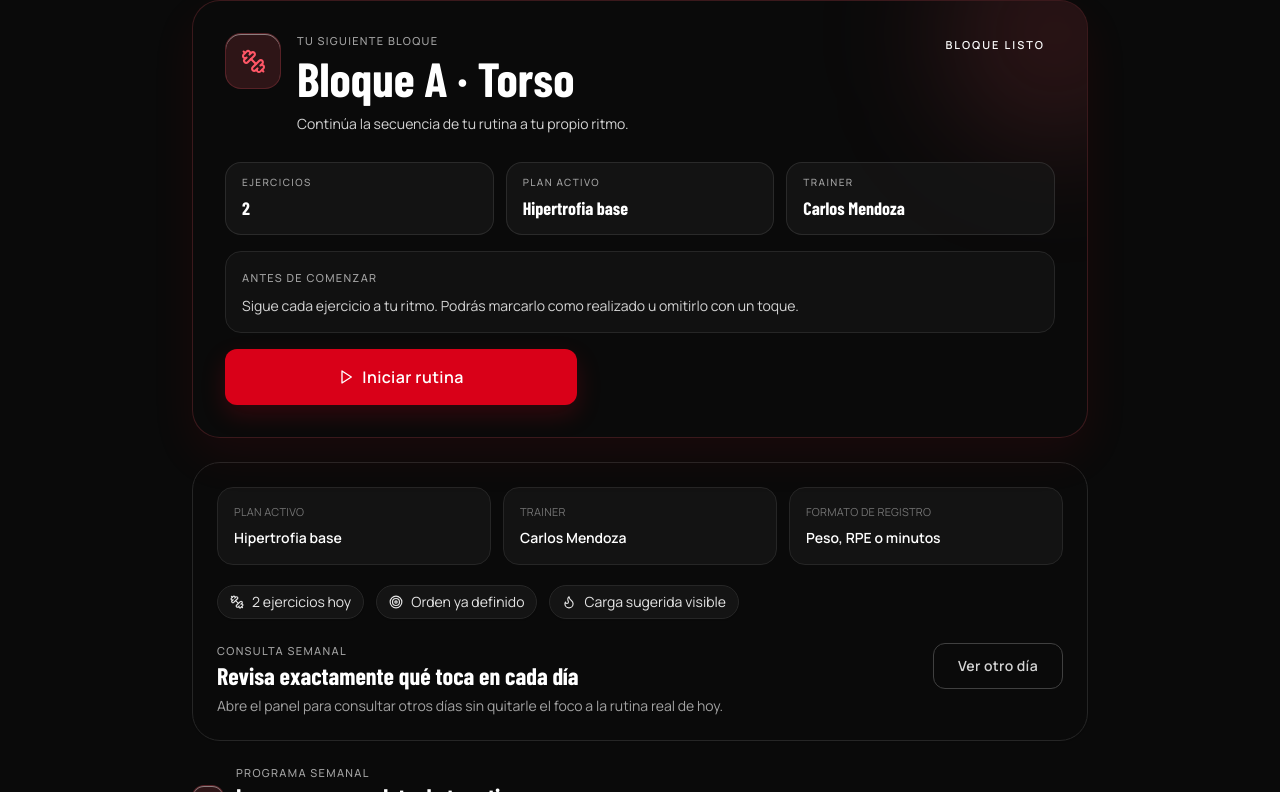
Test case: TodayWorkoutPage › starts and records client exercises one at a time
Check: the text "Carlos Mendoza" below "Bloque A · Torso" is shown, box [803,196,905,218]
Check: the element with test id "workout-primary" is shown, box [192,0,1088,438]
Click the button with test id "start-session-btn". click: (401, 376)
box: [225,348,577,404]
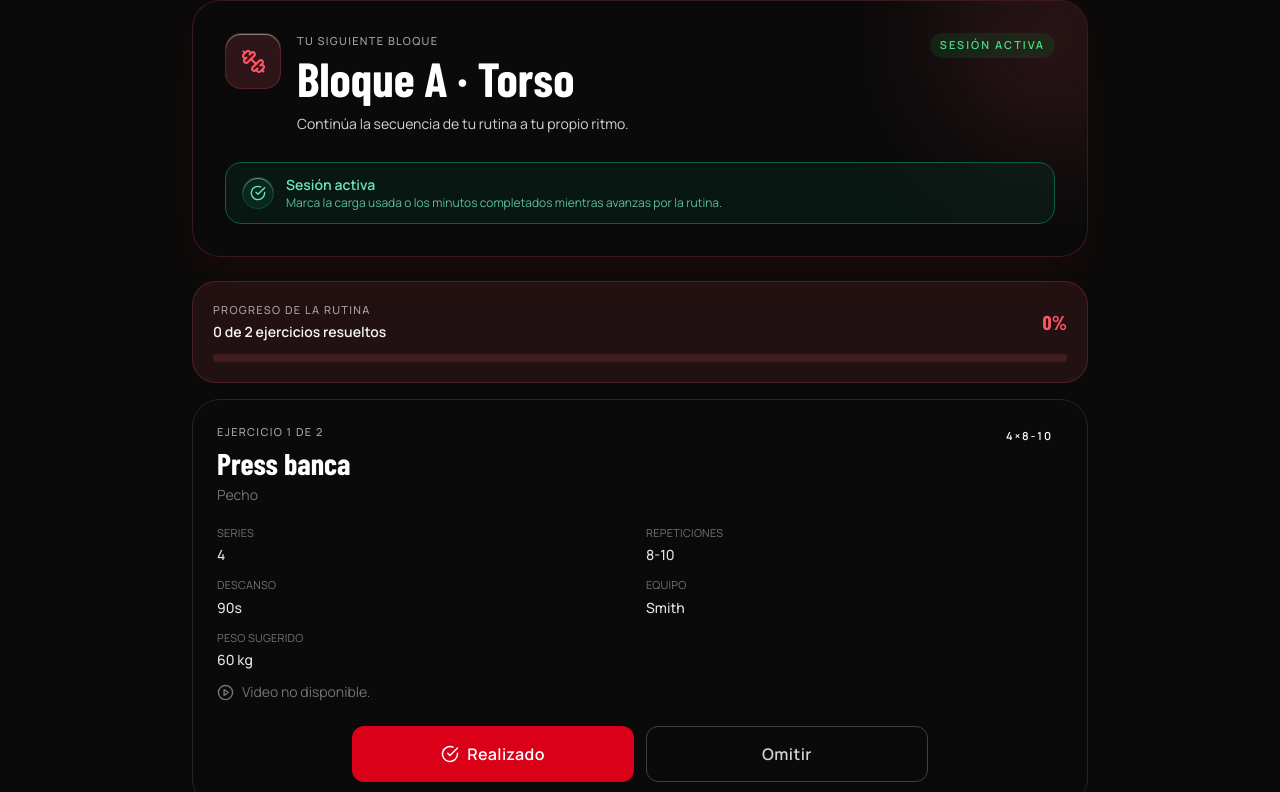
Check: the button with test id "skip-exercise" is shown, box [646,726,928,782]
Check: the element with test id "client-routine-flow" shows "Press banca", box [217,444,350,480]
Click the button with test id "mark-exercise-done". click: (493, 754)
box: [352,726,634,782]
(page scrolled)
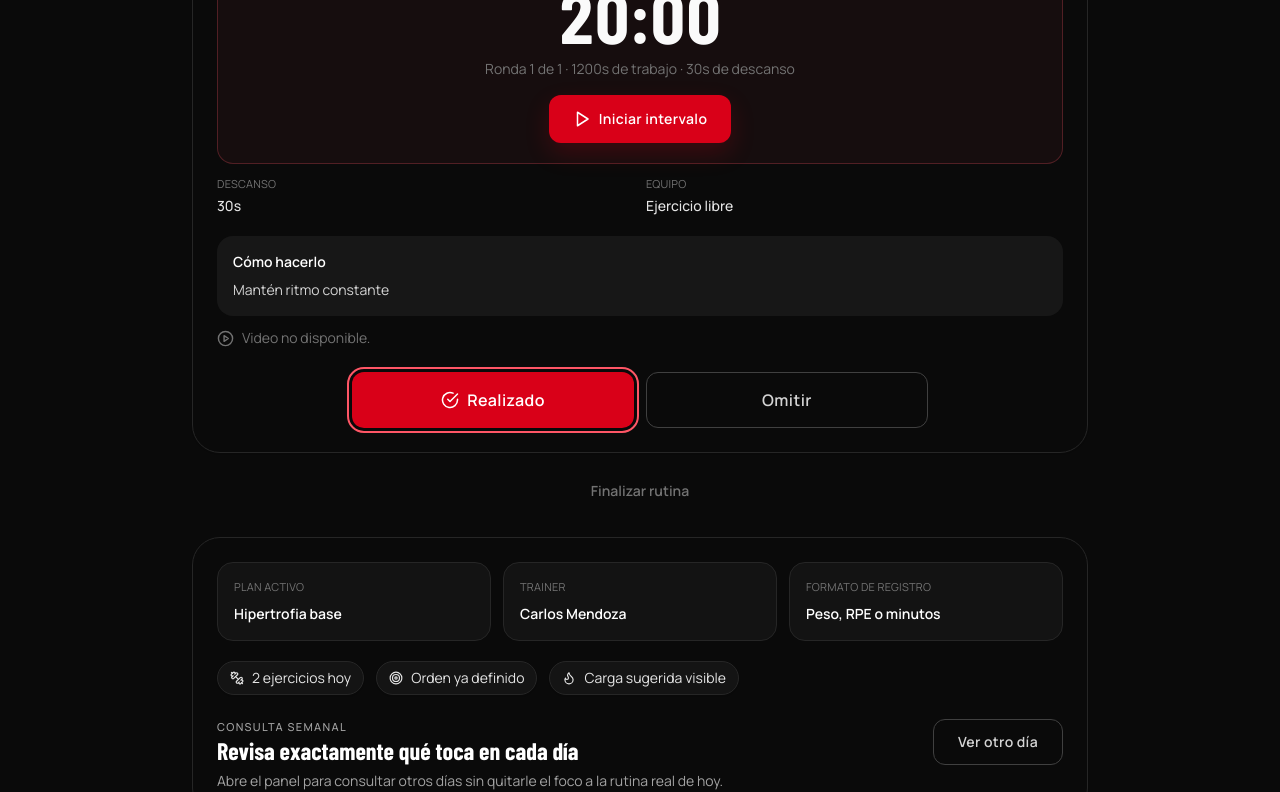
Click the button with test id "skip-exercise". click: (787, 400)
box: [646,372,928,428]
(page scrolled)
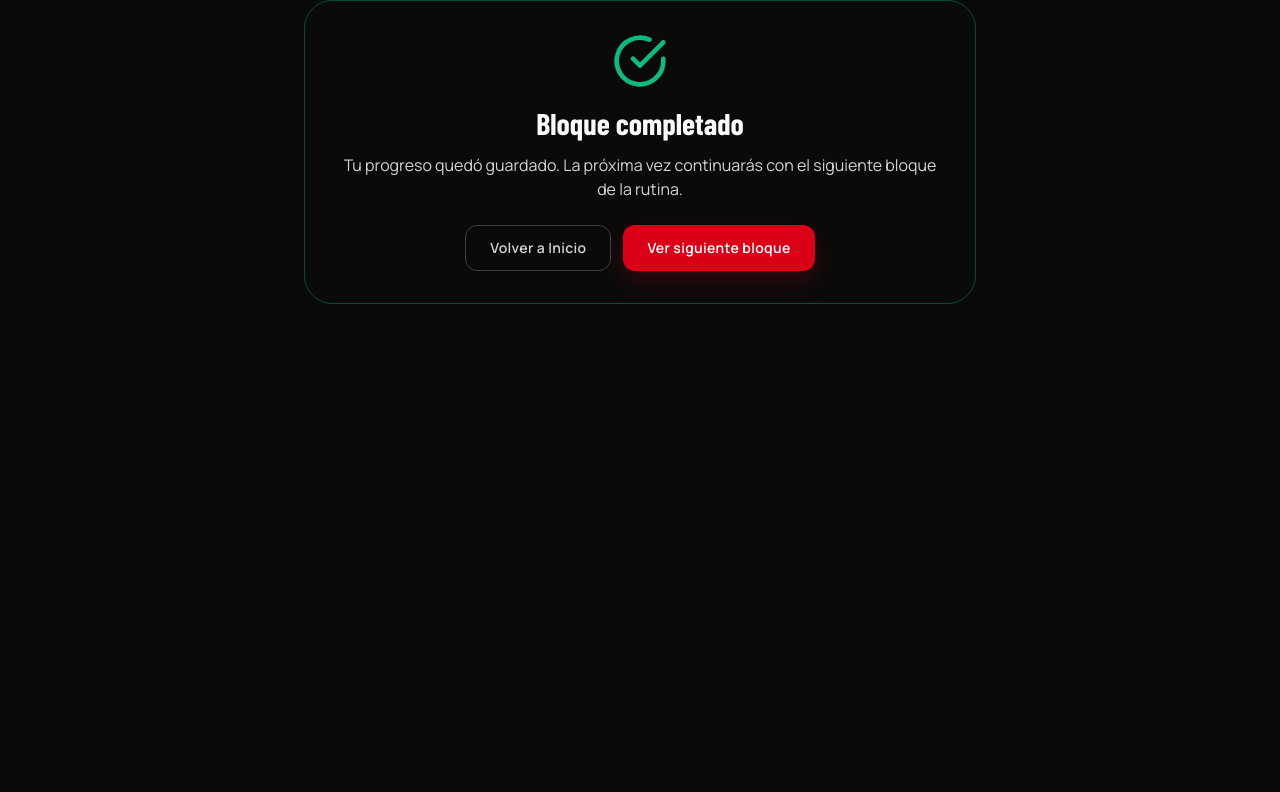
Check: the heading "Bloque completado" is shown, box [536,105,744,141]
